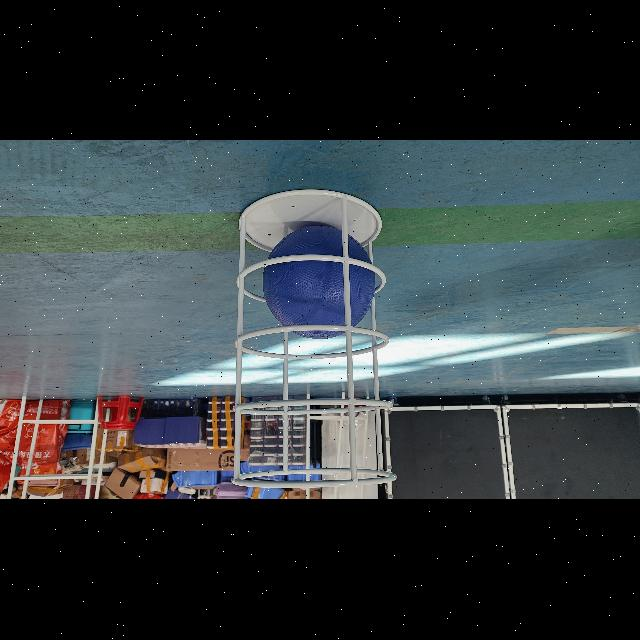B: (261, 224, 375, 340)
S: (228, 179, 402, 495)
